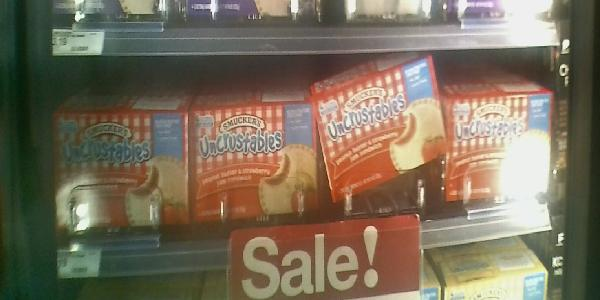icecream: (188, 90, 329, 242), (50, 89, 191, 237), (307, 46, 436, 172), (440, 87, 563, 211)
